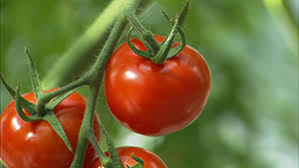tomato: (105, 38, 212, 137), (2, 90, 100, 163)
